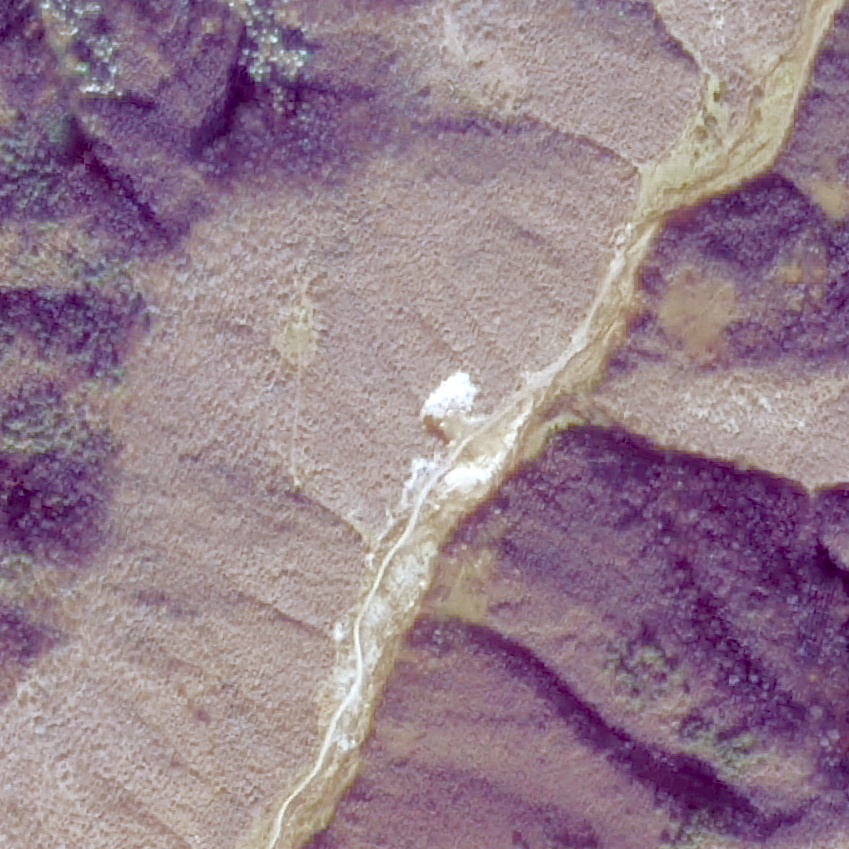slope: (399, 360, 554, 517)
